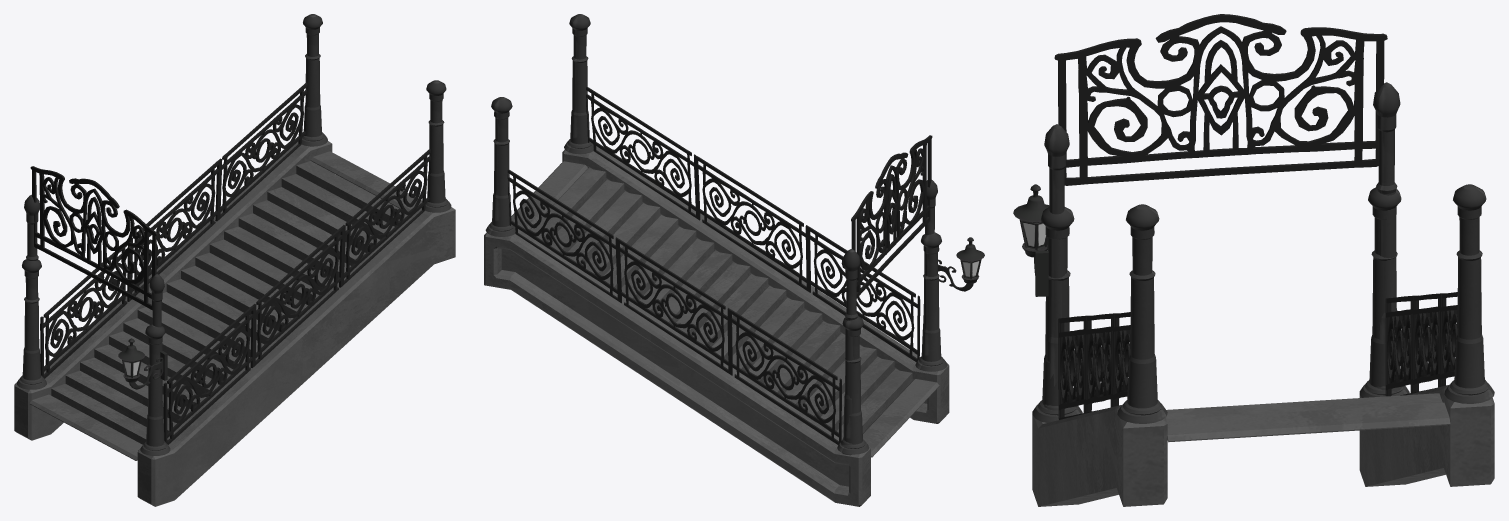
Rendered from HoD_Stairs_Single.fbx.
3 renders of one model, left to right at view 1: azimuth 30°, elevation 25°; view 2: azimuth 150°, elevation 25°; view 3: azimuth 270°, elevation 25°, orthographic. The views are drawn at different scales.
Visible parts, largest first — view 1: Stairs_6Height, Bannister, railing13 (2), railing13 (1), Bannister.001, railingDetail, post13 (1), post15 (1), RimBottom, post12 (2), post14 (1), RimTop (+2 smaller); view 2: Stairs_6Height, Bannister.001, railing13 (1), railing13 (2), Bannister, railingDetail, post14 (1), post12 (2), post15 (1), RimBottom, post13 (1), post (+1 smaller); view 3: railingDetail, Bannister, Bannister.001, RimTop, railing13 (2), railing13 (1), post15 (1), post12 (2), post, post1, post13 (1), Stairs_6Height (+4 smaller).
Boxes of the visible parts, x1,y1,x2,y2 form: Stairs_6Height: (51,161,407,444); Bannister: (137,207,455,506); railing13 (2): (163,149,430,444); railing13 (1): (40,82,307,378); Bannister.001: (14,141,332,440); railingDetail: (30,166,157,310); post13 (1): (16,259,46,389); post15 (1): (425,80,451,212); RimBottom: (29,394,142,460); post12 (2): (298,14,327,146); post14 (1): (140,324,170,455); RimTop: (310,151,422,211); Stairs_6Height: (530,167,913,439); Bannister.001: (484,229,870,506); railing13 (1): (507,169,841,445); railing13 (2): (586,86,920,362); Bannister: (562,146,949,423); railingDetail: (851,135,932,298); post14 (1): (915,232,947,371); post12 (2): (485,97,515,236); post15 (1): (564,14,593,154); RimBottom: (863,379,939,457); post13 (1): (837,316,869,454); post: (840,249,860,455); railingDetail: (1054,14,1387,185); Bannister: (1032,405,1167,506); Bannister.001: (1359,385,1494,486); RimTop: (1166,402,1450,442); railing13 (2): (1058,312,1130,419); railing13 (1): (1385,292,1457,396); post15 (1): (1117,204,1167,423); post12 (2): (1444,184,1494,403); post: (1373,82,1402,394); post1: (1044,124,1069,415); post13 (1): (1359,187,1409,397); Stairs_6Height: (1165,393,1442,419).
Bounding box in the file's own units: 15.2 × 13.05 × 10.56.
